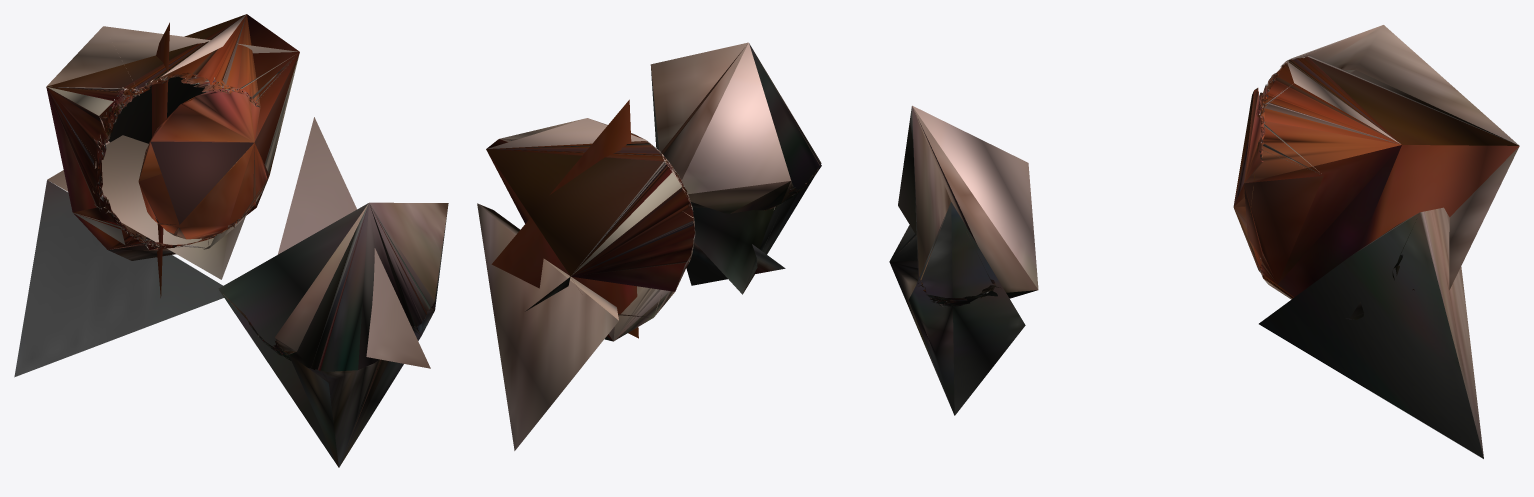
The model's file is olho_abissal.glb.
The picture shows the model from 3 angles, left to right: view 1: azimuth 30°, elevation 25°; view 2: azimuth 150°, elevation 25°; view 3: azimuth 270°, elevation 25°; orthographic projection. The views are drawn at different scales.
Visible parts, largest first — view 1: geometry_0.001; view 2: geometry_0.001; view 3: geometry_0.001.
Boxes of the visible parts, box(x1,y1,x2,y2) form: geometry_0.001: box(14, 14, 448, 467); geometry_0.001: box(477, 42, 821, 450); geometry_0.001: box(889, 25, 1519, 458).
Size of the model in its own units: 0.466 by 0.7134 by 1.
1 material, 1 textured.
